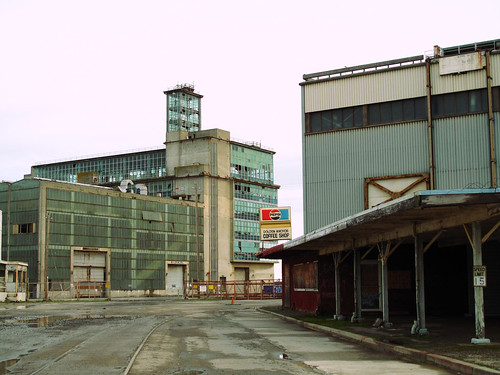building: (1, 100, 273, 297), (298, 76, 500, 331)
sky: (11, 1, 500, 156)
street: (2, 295, 385, 375)
